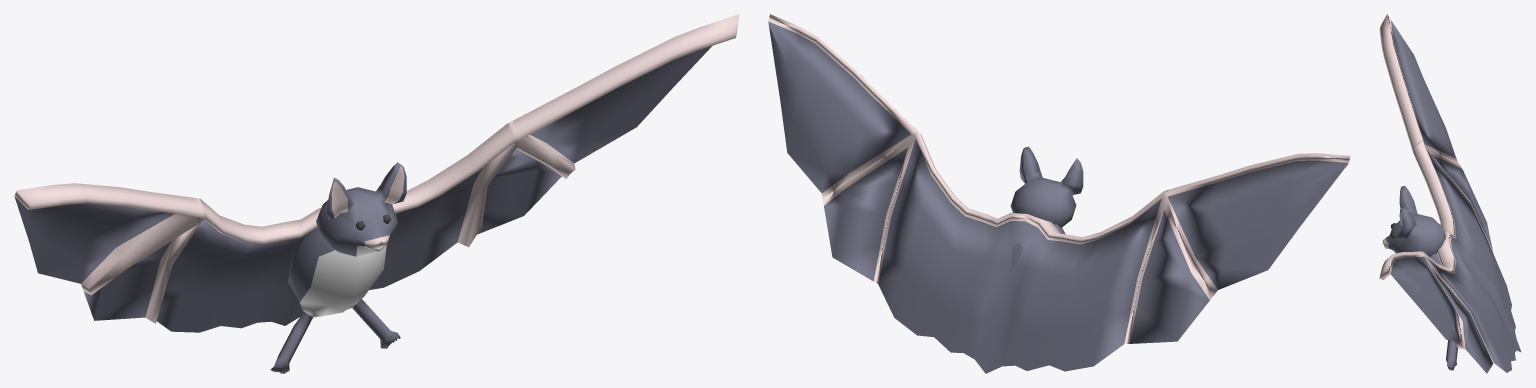
The model's file is NOVELO_BAT.gltf.
3 views of the same model, side by side, from view 1: azimuth 30°, elevation 25°; view 2: azimuth 150°, elevation 25°; view 3: azimuth 270°, elevation 25° (orthographic). The views are drawn at different scales.
Parts seen in each view (by area): view 1: node-0; view 2: node-0; view 3: node-0.
Part boxes in pixels (x1=…): node-0: x1=14, y1=14, x2=739, y2=373; node-0: x1=768, y1=14, x2=1350, y2=373; node-0: x1=1379, y1=14, x2=1521, y2=373.
Size of the model in its own units: 512 by 198 by 121.
